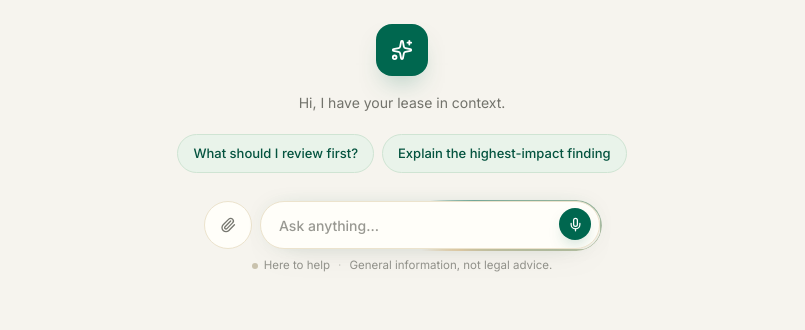
AssistantConsole › falls back to the local guide when the agent fails, and says so
What coordinates should you click on to do the following:
click the button "Explain the highest-impact finding"
I would click on:
 (504, 153)
Its box is [382,134,626,173].
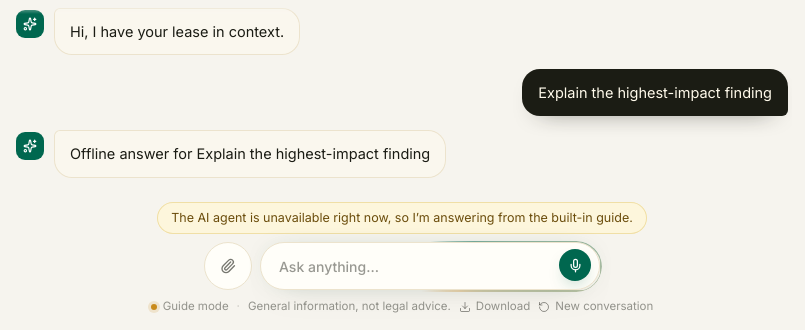
Now the text "Offline answer for Explain the highest-impact finding" is shown, box [70,142,430,166]
Now the message shows "answering from the built-in guide", box [171,210,633,225]
